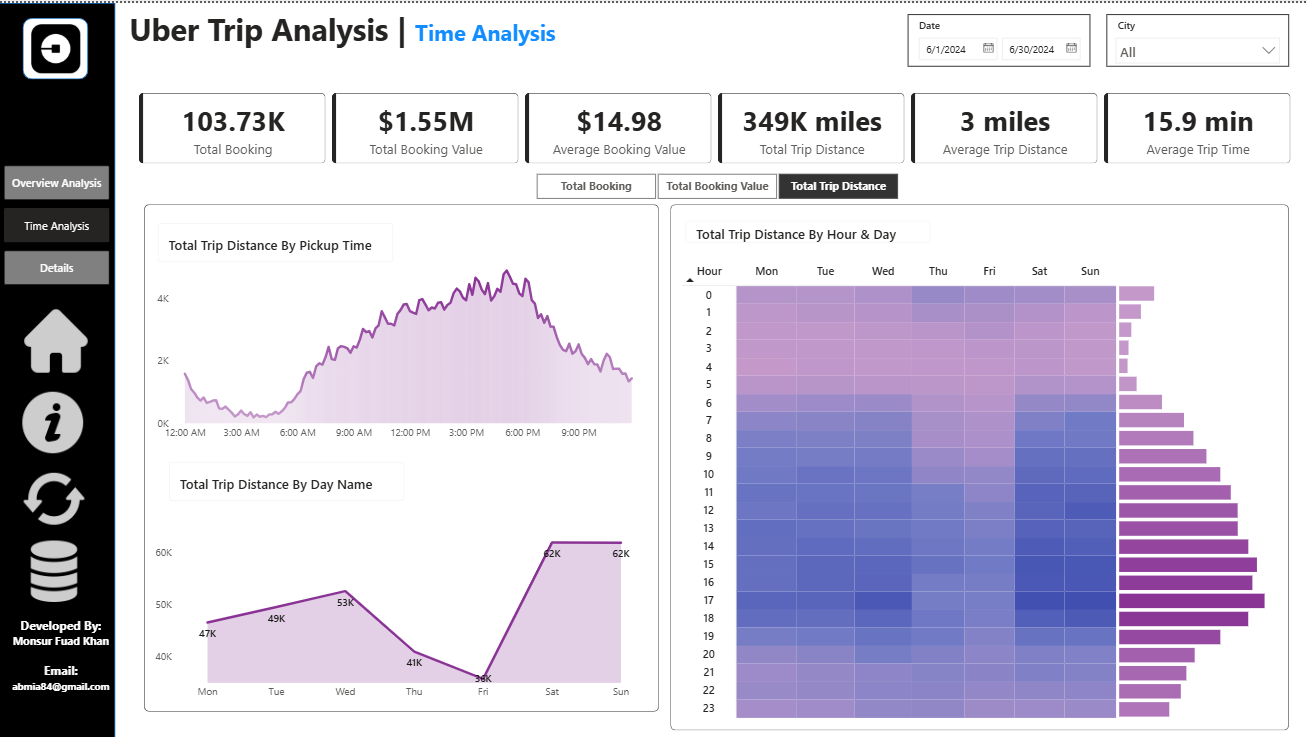

Layout of this report page (visuals, bound fields, positions):
{"tool":"powerbi","page":{"name":"Time Analysis","canvas":[1600,900],"ordinal":1},"visuals":[{"type":"shape","box":[0,0,142,900.5],"z":0},{"type":"textbox","box":[154.4,1.7,689.5,77.2],"z":1000},{"type":"cardVisual","fields":{"Data":["Trip Details.total_booking","Trip Details.total_booking_value","Trip Details.average_booking_value","Trip Details.total_trip_distance","Trip Details.average_trip_distance","Trip Details.average_trip_time"]},"box":[154.4,92.6,1446,120.1],"z":2000},{"type":"shape","box":[177.3,246.1,629.8,620.6],"z":3000},{"type":"slicer","fields":{"Values":["Dynamic Measure.Dynamic Measure"]},"box":[631.3,201.8,492.2,44.3],"z":4000},{"type":"slicer","fields":{"Values":["calender_table.Date"]},"box":[1111.2,13.8,223.2,64.2],"z":5000},{"type":"slicer","fields":{"Values":["Location Table.City"]},"box":[1354.3,13.8,223.2,64.2],"z":6000},{"type":"areaChart","fields":{"Y":["Trip Details.Total Trip Distance Measure"],"Category":["Trip Details.Pickup Hour (HH MM SS) (bins)"]},"box":[186.5,308.8,614.5,235.4],"z":7000},{"type":"cardVisual","fields":{"Data":["Trip Details.Title for by Pickup Time"]},"box":[177.3,252.2,322.5,82.5],"z":8000},{"type":"areaChart","fields":{"Y":["Trip Details.Total Trip Distance Measure"],"Category":["calender_table.Day Name"]},"box":[186.5,626.7,612.9,233.9],"z":9000},{"type":"cardVisual","fields":{"Data":["Trip Details.Title for by Day Name"]},"box":[191.1,544.2,322.5,82.5],"z":10000},{"type":"shape","box":[820.8,246.1,756.6,643.5],"z":11000},{"type":"pivotTable","fields":{"Values":["Trip Details.Total Trip Distance Measure"],"Rows":["Trip Details.Pickup Hour"],"Columns":["calender_table.Day Name"]},"box":[830,311.8,545.7,567.1],"z":12000},{"type":"barChart","fields":{"Y":["Trip Details.Total Trip Distance Measure"],"Category":["Trip Details.Pickup Hour"]},"box":[1365,333.2,204.8,567.1],"z":13000},{"type":"cardVisual","fields":{"Data":["Trip Details.Title for by Hour & Day"]},"box":[822.4,249.2,334.8,62.7],"z":14000},{"type":"pageNavigator","box":[6.1,198.7,129.9,148.3],"z":15000},{"type":"shape","box":[29,18.3,80,75],"z":16000},{"type":"image","box":[29,26,81,59.6],"z":17000},{"type":"image","box":[24.5,374.5,90.2,78],"z":18000},{"type":"image","box":[22.9,475.4,85.6,74.9],"z":19000},{"type":"image","box":[24.5,568.6,85.6,74.9],"z":20000},{"type":"image","box":[24.5,657.3,85.6,74.9],"z":21000},{"type":"textbox","box":[0,745.9,151.3,114.6],"z":21001}]}

Visuals, with their boxes in screenshot pixels (x1, y1, x2, y2), scaled from the page's 1600x900 canvas onto the 1307x737 screenshot:
shape: 0, 0, 116, 736
textbox: 126, 1, 689, 65
cardVisual - Trip Details.total_booking x Trip Details.total_booking_value: 126, 76, 1306, 174
shape: 145, 202, 659, 710
slicer - Dynamic Measure.Dynamic Measure: 516, 165, 918, 202
slicer - calender_table.Date: 908, 11, 1090, 64
slicer - Location Table.City: 1106, 11, 1289, 64
areaChart - Trip Details.Total Trip Distance Measure x Trip Details.Pickup Hour (HH MM SS) (bins): 152, 253, 654, 446
cardVisual - Trip Details.Title for by Pickup Time: 145, 207, 408, 274
areaChart - Trip Details.Total Trip Distance Measure x calender_table.Day Name: 152, 513, 653, 705
cardVisual - Trip Details.Title for by Day Name: 156, 446, 420, 513
shape: 670, 202, 1289, 728
pivotTable - Trip Details.Total Trip Distance Measure x Trip Details.Pickup Hour: 678, 255, 1124, 720
barChart - Trip Details.Total Trip Distance Measure x Trip Details.Pickup Hour: 1115, 273, 1282, 736
cardVisual - Trip Details.Title for by Hour & Day: 672, 204, 945, 255
pageNavigator: 5, 163, 111, 284
shape: 24, 15, 89, 76
image: 24, 21, 90, 70
image: 20, 307, 94, 371
image: 19, 389, 89, 451
image: 20, 466, 90, 527
image: 20, 538, 90, 600
textbox: 0, 611, 124, 705
